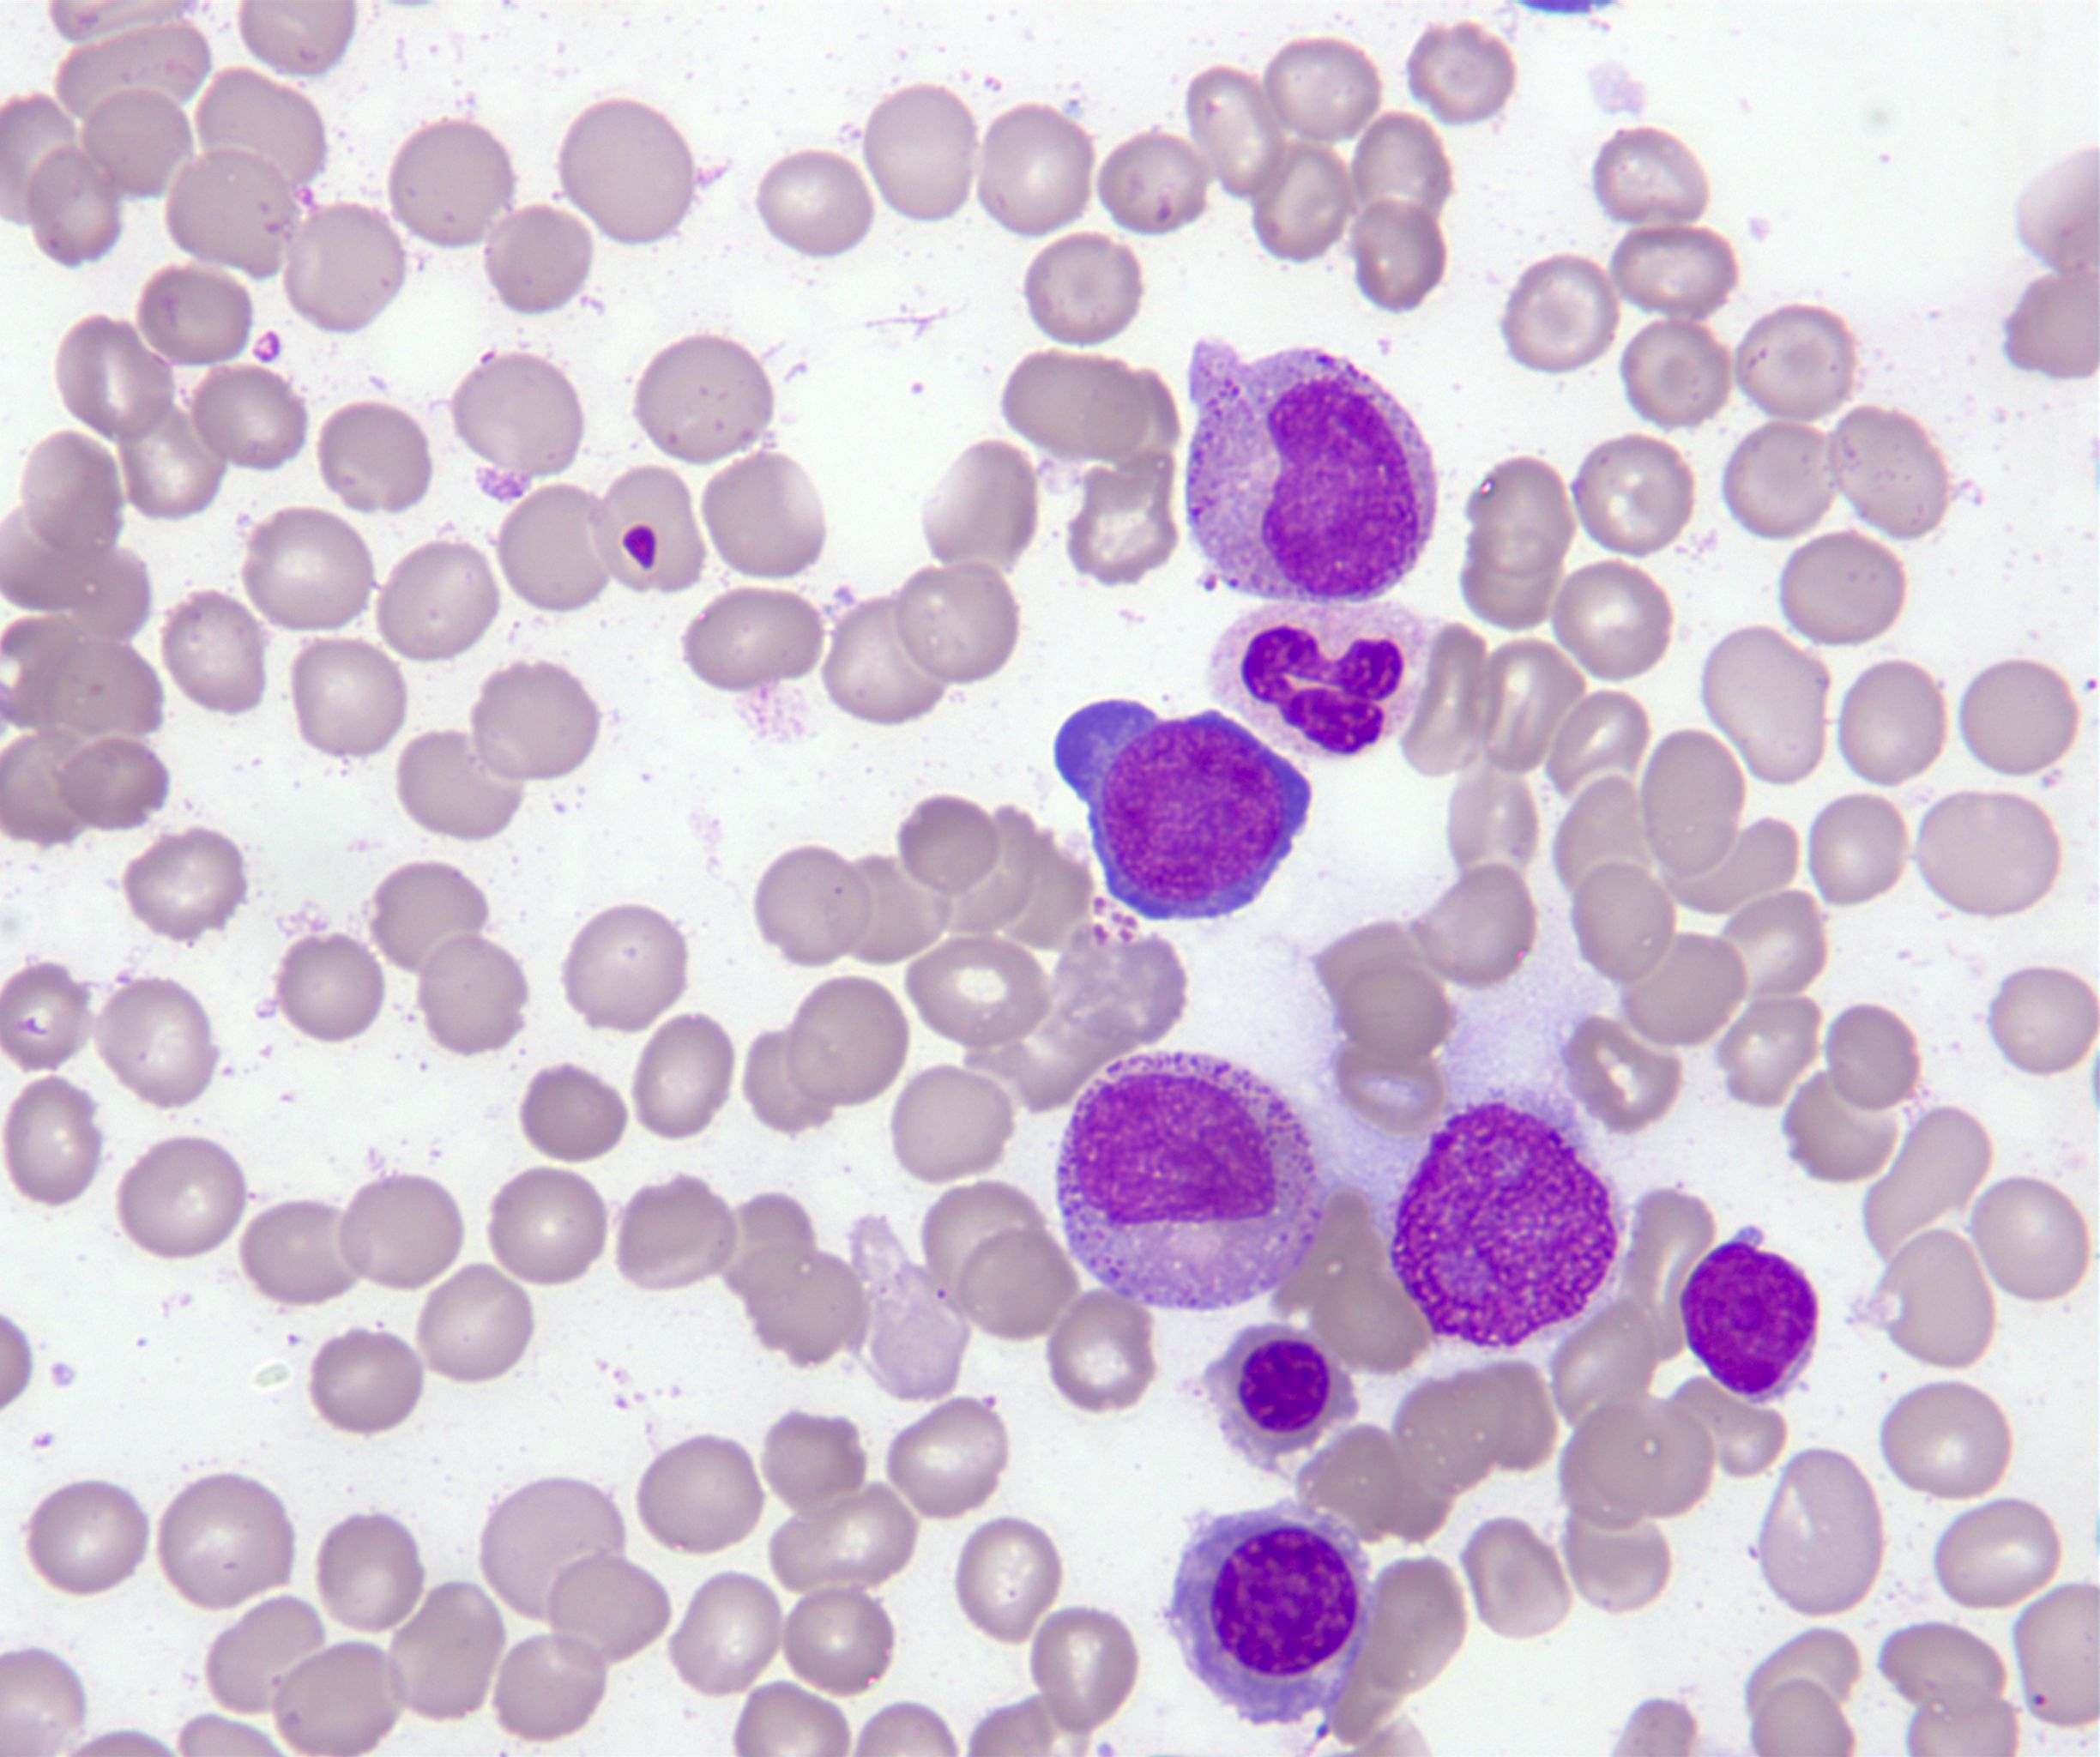22: (1055, 701, 1310, 921)
23: (1165, 1497, 1371, 1726)
24: (1203, 1324, 1357, 1476)
3: (1059, 1054, 1324, 1310), (1188, 335, 1437, 605)
32: (1680, 1227, 1817, 1401)
5: (1205, 600, 1427, 761)
x: (1388, 1099, 1617, 1349)
